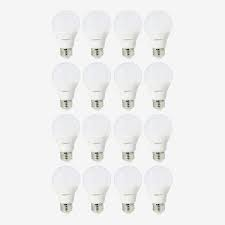bulb: (142, 9, 185, 63), (49, 163, 93, 208), (142, 161, 179, 214), (141, 111, 180, 158), (49, 3, 84, 55), (81, 5, 115, 58), (114, 61, 153, 106), (80, 111, 113, 162), (79, 168, 120, 207), (145, 61, 181, 105), (81, 61, 117, 105), (114, 111, 148, 156), (112, 166, 149, 207), (50, 114, 84, 157), (113, 9, 145, 51), (49, 64, 84, 100)
